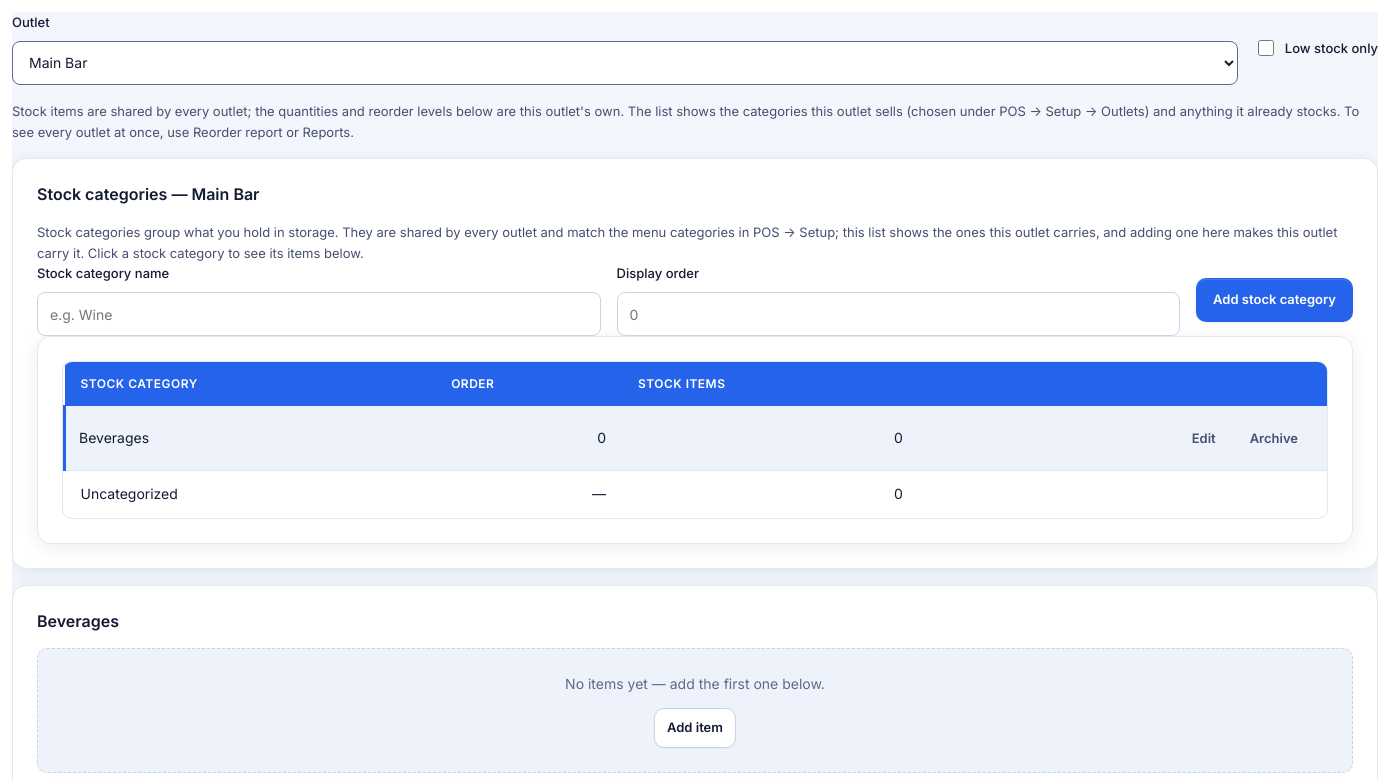
Scenario: <StockItemsTab> › single-category selection › "Uncategorized" is a selectable row in the very same categories list, right alongside the real categories
Click the button "Uncategorized". click: coordinates (129, 495)
box: top-left (80, 483), bottom-right (178, 506)
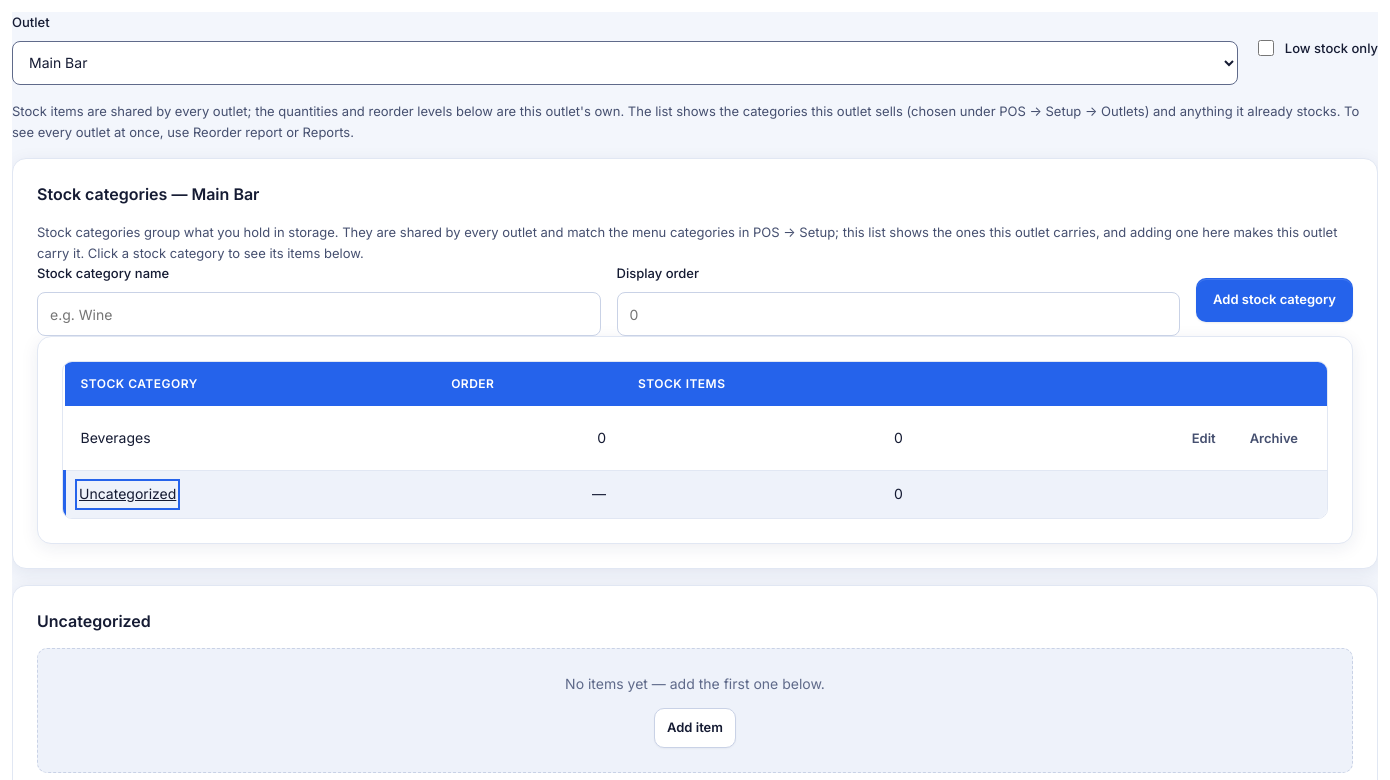
Check: the heading "Uncategorized" is shown, box top-left (37, 611), bottom-right (151, 631)
